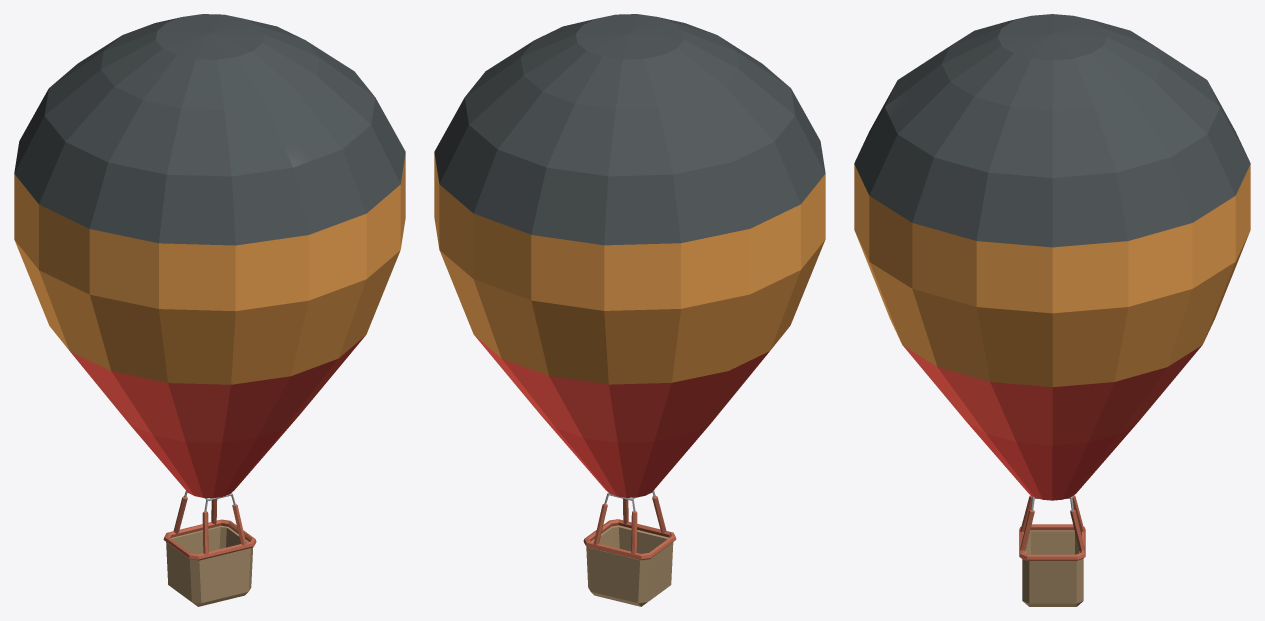
File: balloon.FBX
3 views of the same model, side by side, from view 1: azimuth 30°, elevation 25°; view 2: azimuth 150°, elevation 25°; view 3: azimuth 270°, elevation 25° (orthographic).
Parts seen in each view (by area): view 1: balloon; view 2: balloon; view 3: balloon.
Part boxes in pixels (x1,y1,x2,y2): balloon: [14, 14, 405, 606]; balloon: [434, 14, 825, 606]; balloon: [854, 14, 1250, 606].
Bounding box in the file's own units: 2688 × 4202 × 2688.
